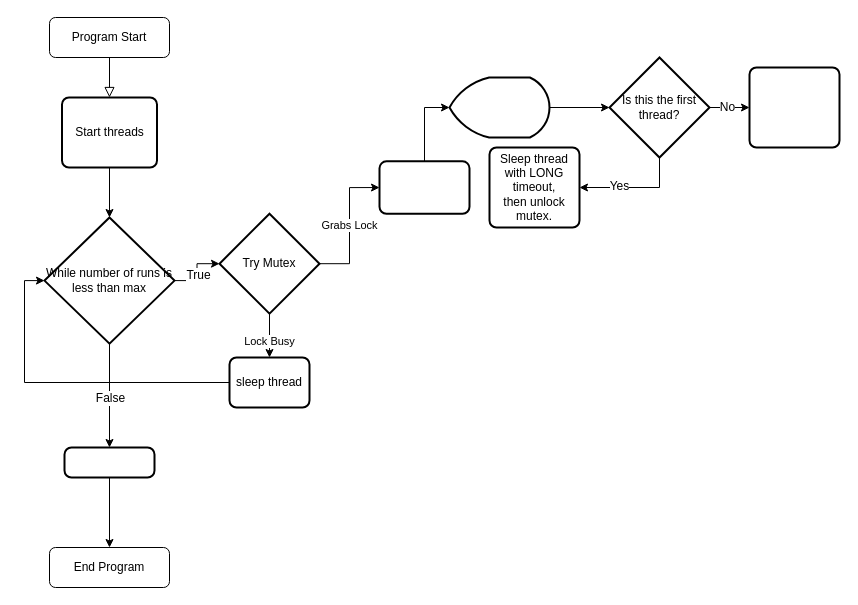
The diagram is 858 pixels wide and 605 high, and some of its shapes have lost their labels. Here are the shapes that lost their labels. From the top down, the centre of each, then its label:
At point 499,107: "Display to user, print to log file".
At point 794,107: "Sleep thread with SHORT timeout, then unlock mutex.".
At point 424,187: "Access and print critical resource".
At point 109,462: "Exit thread".
